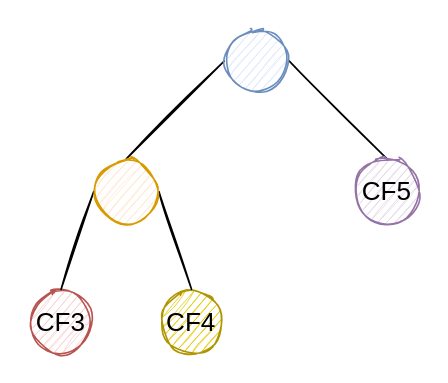
The diagram is 448 pixels wide and 383 high, and some of its shapes have lost their labels. Each missing label, with the box of its shape:
CF: (92, 157, 159, 224)
CF6: (222, 27, 289, 94)
